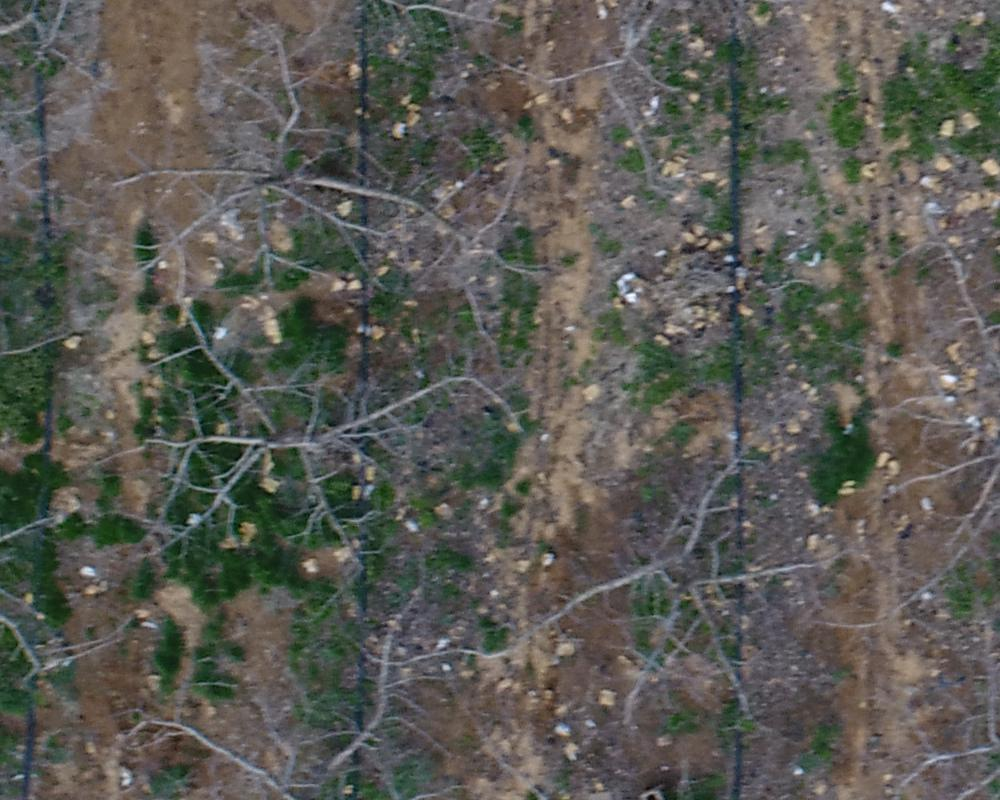apple: (94, 21, 556, 328), (109, 300, 531, 592), (466, 430, 833, 744), (125, 572, 459, 790), (517, 10, 834, 158)
